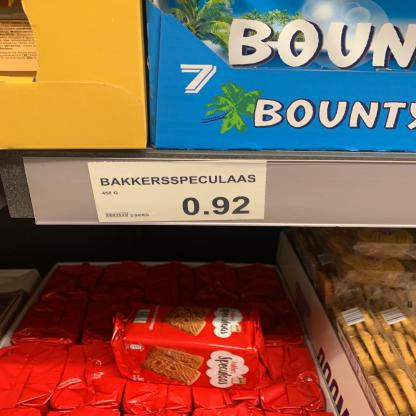prtg: (88, 161, 268, 224)
